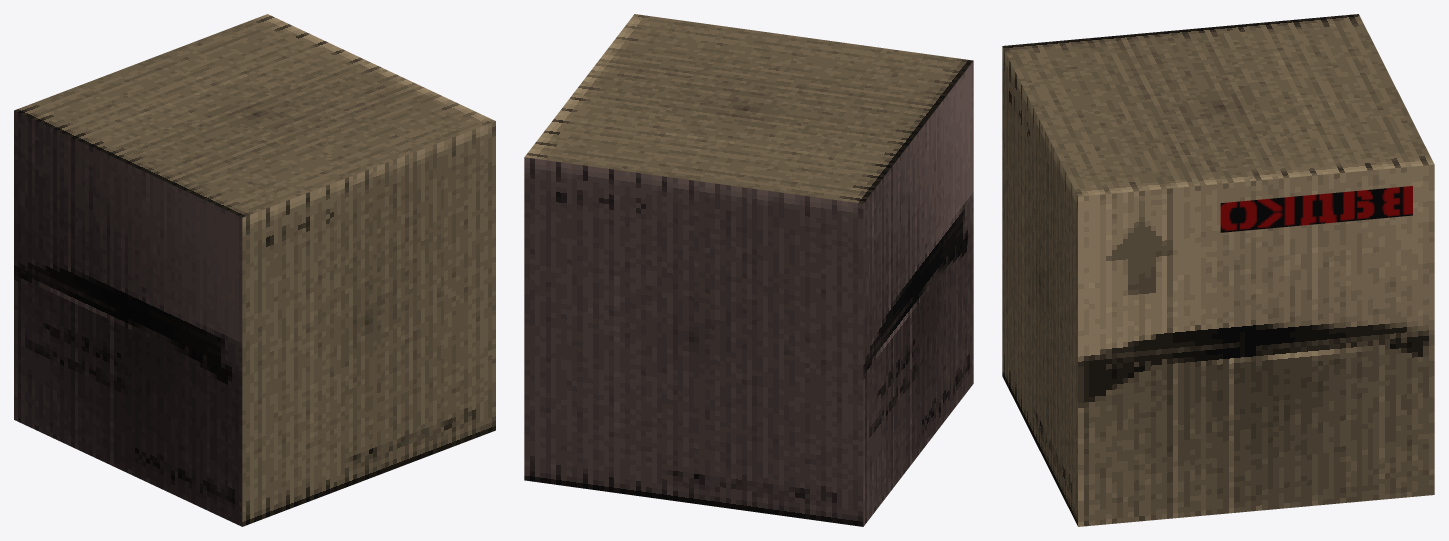
File: primary_027.glb
3 renders of one model, left to right at view 1: azimuth 30°, elevation 25°; view 2: azimuth 150°, elevation 25°; view 3: azimuth 270°, elevation 25°, orthographic. The views are drawn at different scales.
Parts seen in each view (by area): view 1: Object; view 2: Object; view 3: Object.
Boxes of the visible parts, box(x1,y1,x2,y2) form: Object: box(14, 14, 495, 526); Object: box(524, 14, 973, 526); Object: box(1002, 14, 1434, 526).
Size of the model in its own units: 1.24 by 1.05 by 1.24.
Materials: 7 (7 with a texture image).
